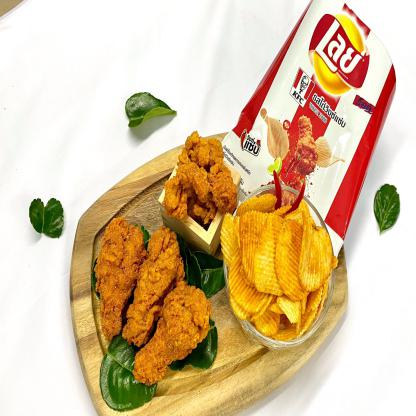potatochip: (212, 0, 402, 274)
